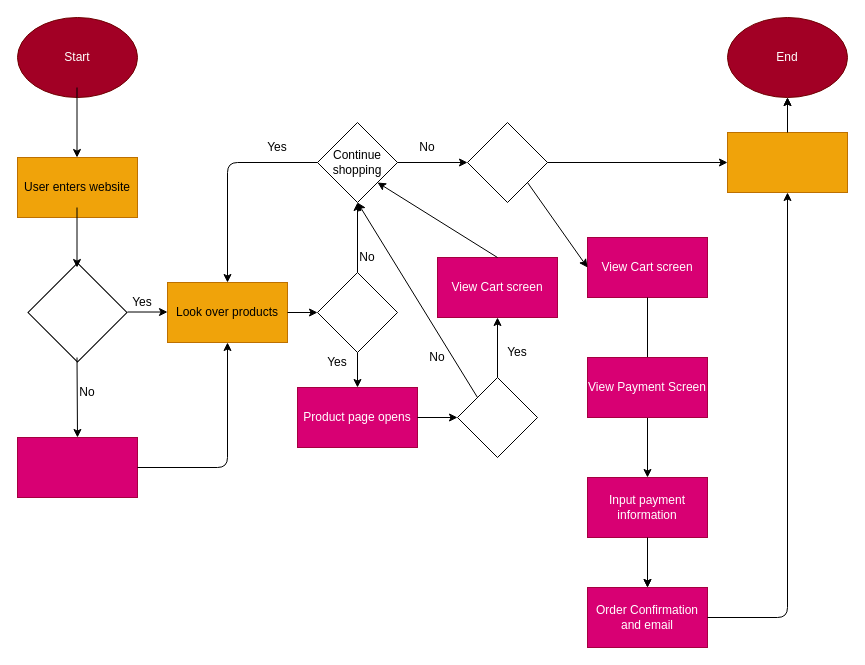
Some shapes in this 865 by 665 pixel diagram are drawn without their labels. Here are the shapes that lost their labels. From the top down, the box of each, then its label:
(466, 122, 548, 202): Checkout
(726, 132, 848, 192): Leave website
(27, 262, 127, 362): Browse home page
(316, 272, 398, 352): View a Product
(456, 376, 538, 458): Add to cart
(16, 436, 138, 498): Search for a product
